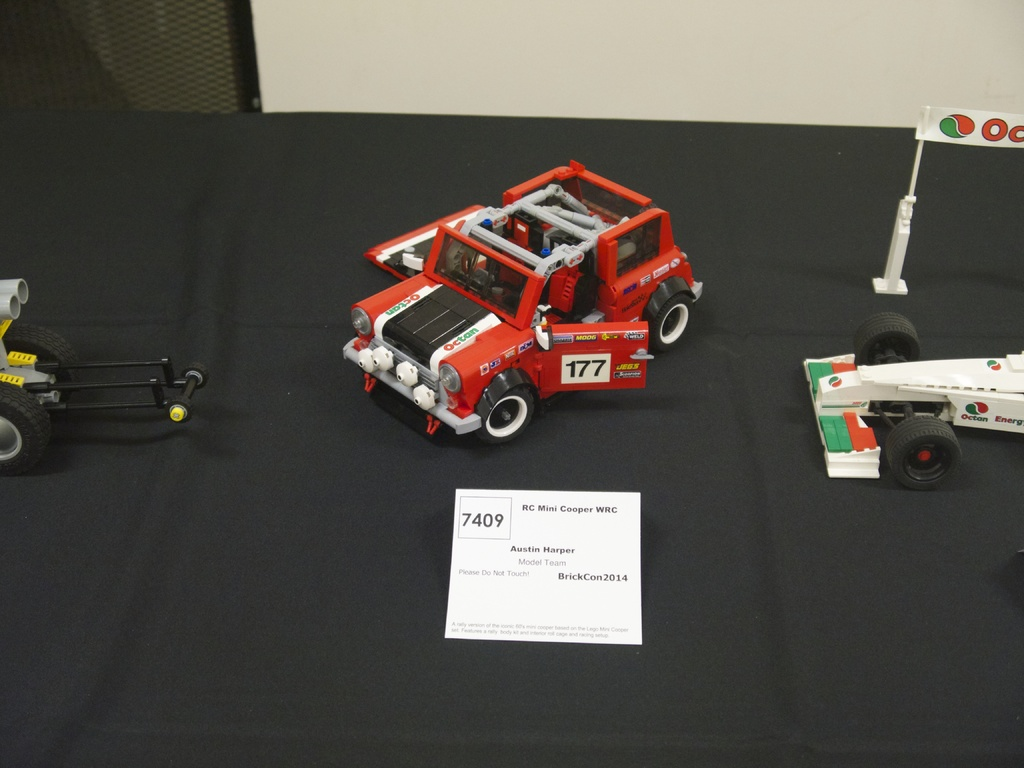Car: (332, 165, 714, 450)
